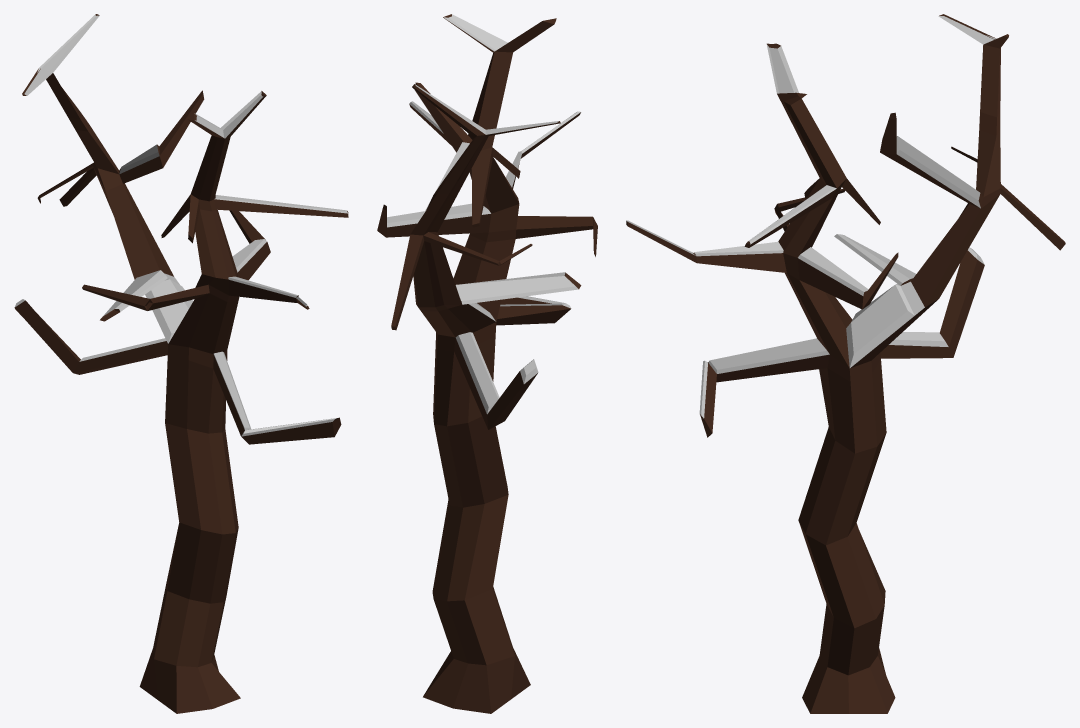
File: dead_tree.fbx
3 renders of one model, left to right at view 1: azimuth 30°, elevation 25°; view 2: azimuth 150°, elevation 25°; view 3: azimuth 270°, elevation 25°, orthographic. The views are drawn at different scales.
Parts seen in each view (by area): view 1: Dead Tree; view 2: Dead Tree; view 3: Dead Tree.
Part boxes in pixels (x1,y1,x2,y2): Dead Tree: [14, 14, 348, 713]; Dead Tree: [377, 14, 597, 713]; Dead Tree: [626, 14, 1065, 713].
Bounding box in the file's own units: 7.27 × 18.64 × 11.35.
